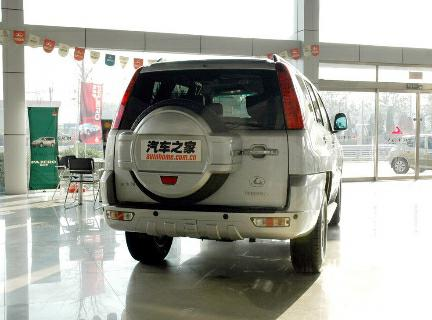猎豹汽车-猎豹CS6: (102, 50, 354, 274)
